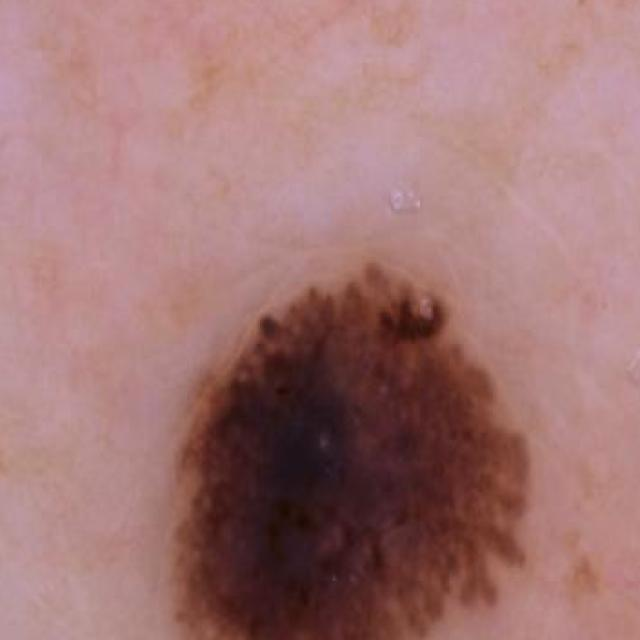MEL: (127, 240, 564, 640)
